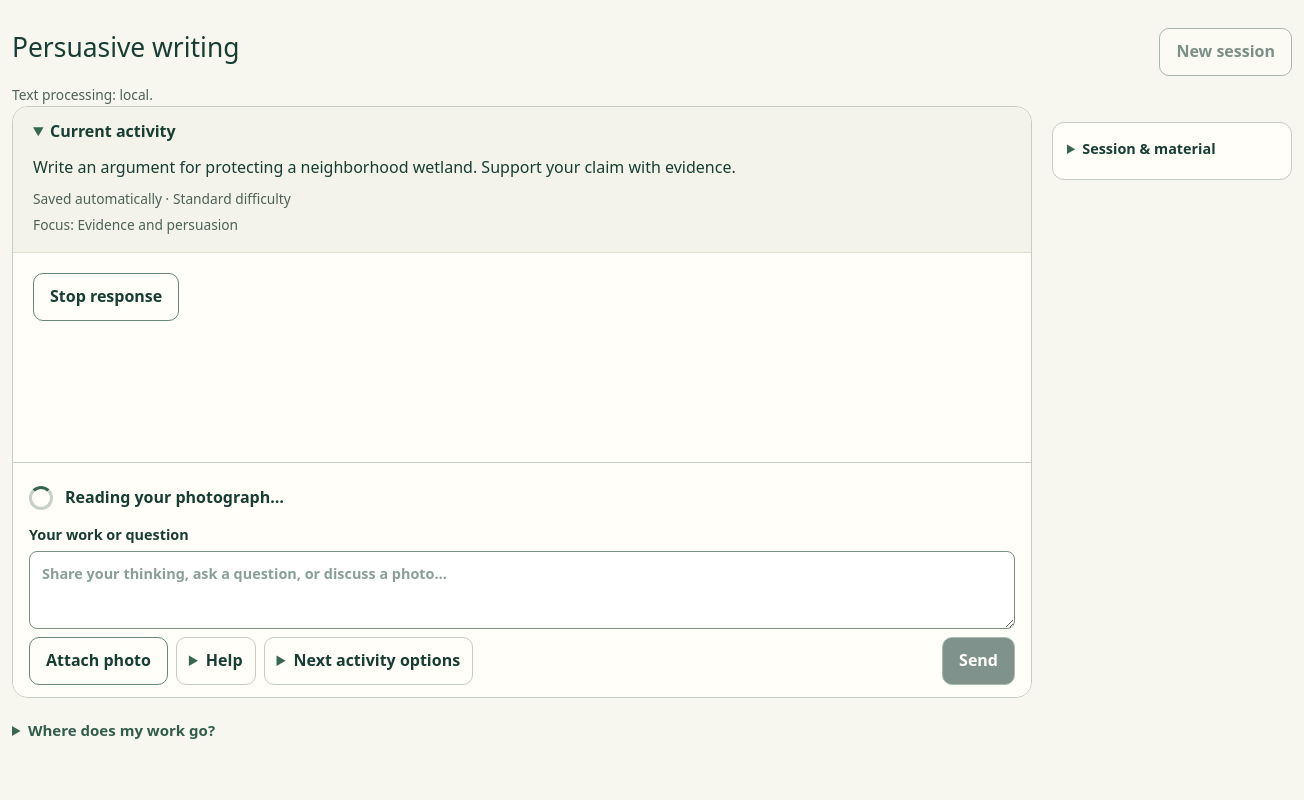
Scenario: AI learning conversation › blocks competing work while a reading is being processed
Expected: the text "Reading your photograph…" is shown, [65, 486, 284, 511]
Expected: the element with class "spinner" is shown, [29, 486, 53, 510]
Click the button "Attach photo" at [98, 661], box [29, 637, 168, 685]
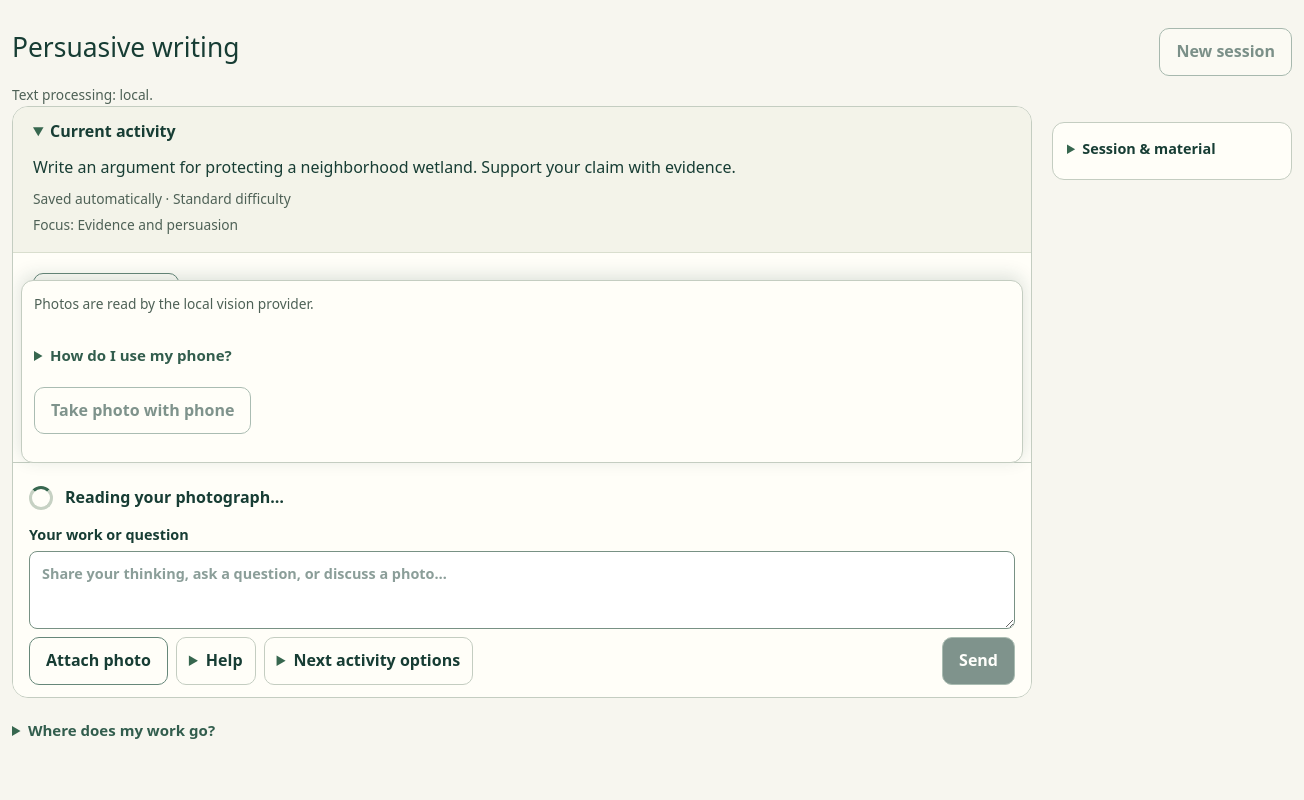
Expected: the button "Stop response" is enabled, [33, 273, 179, 321]
Expected: the button "Take photo with phone" is disabled, [34, 387, 252, 434]
